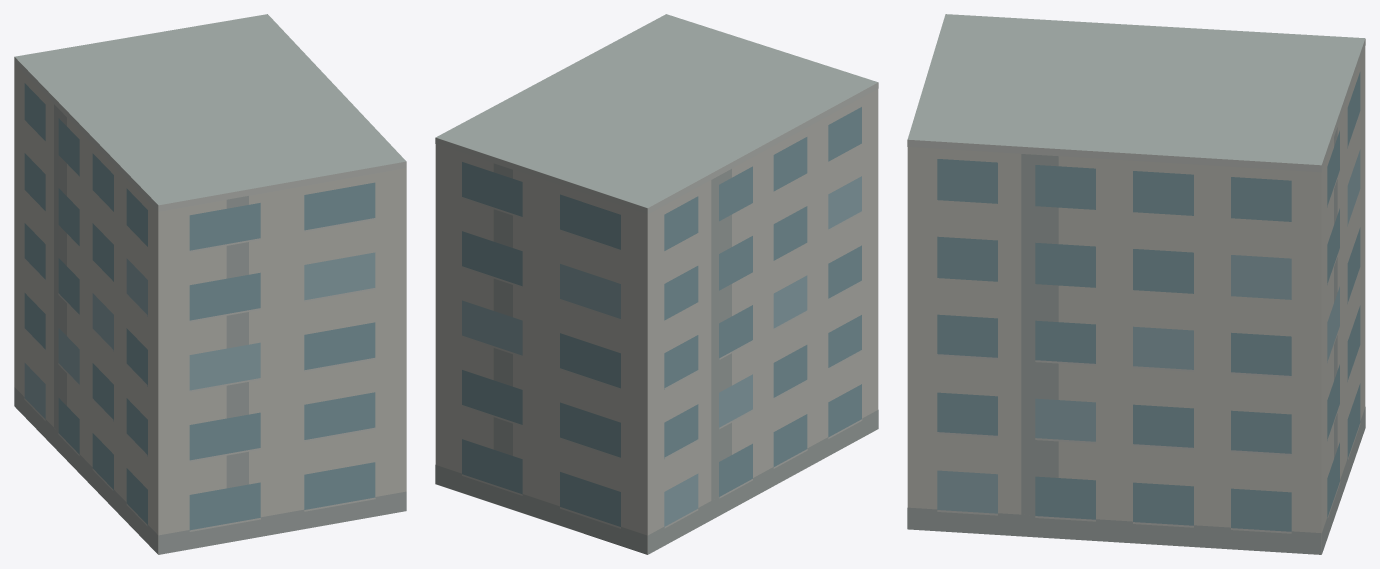
Rendered from survey-upis-32888455.glb.
The picture shows the model from 3 angles, left to right: view 1: azimuth 30°, elevation 25°; view 2: azimuth 150°, elevation 25°; view 3: azimuth 270°, elevation 25°; orthographic projection. The views are drawn at different scales.
Visible parts, largest first — view 1: survey-upis-32888455.tmp; view 2: survey-upis-32888455.tmp; view 3: survey-upis-32888455.tmp.
Boxes of the visible parts, x1,y1,x2,y2 form: survey-upis-32888455.tmp: (14,14,406,554); survey-upis-32888455.tmp: (435,14,878,554); survey-upis-32888455.tmp: (907,14,1365,554).
Size of the model in its own units: 11.04 by 13.25 by 14.13.
